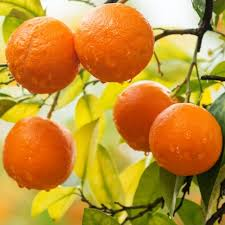orange: (71, 1, 153, 81), (3, 115, 78, 191), (149, 97, 222, 174), (5, 18, 77, 95), (113, 80, 178, 154)
